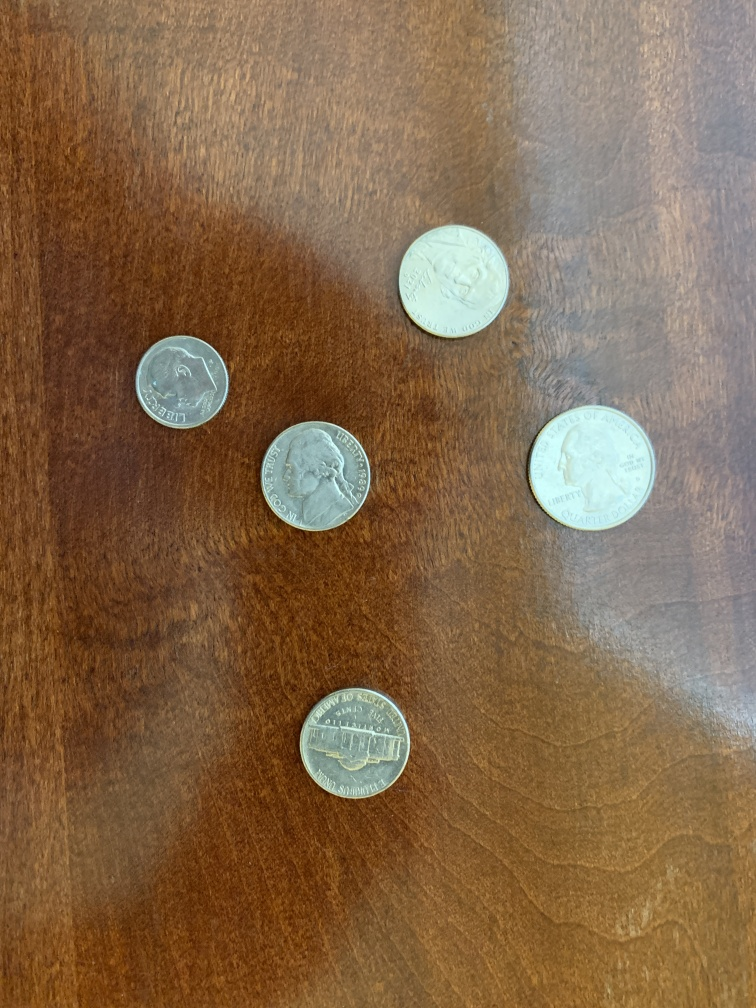dime: (129, 331, 244, 431)
nickel: (297, 681, 414, 816), (255, 415, 379, 541), (394, 220, 514, 341)
quarter: (523, 401, 662, 536)
